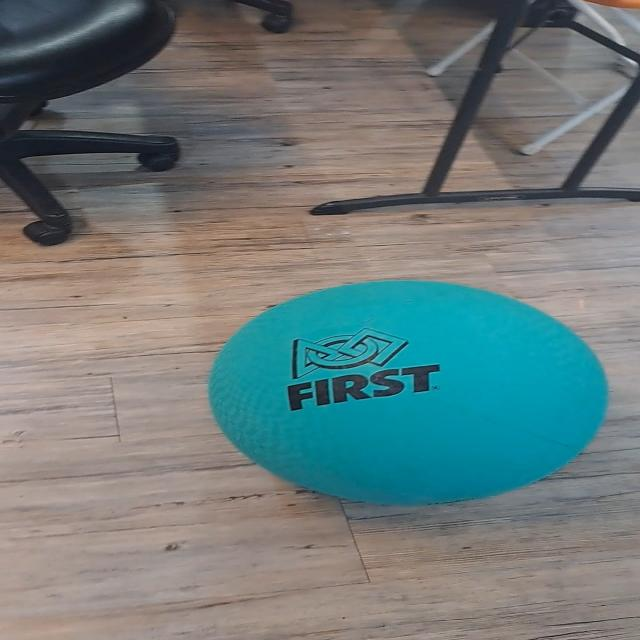ALGAE: (204, 277, 610, 507)
